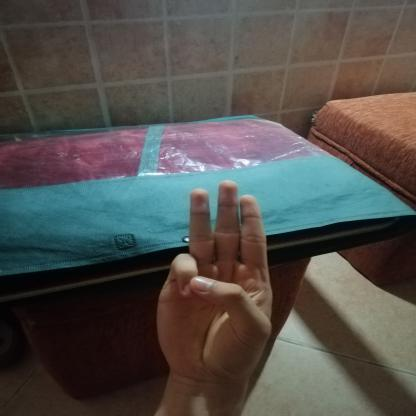THA: (135, 170, 289, 388)
